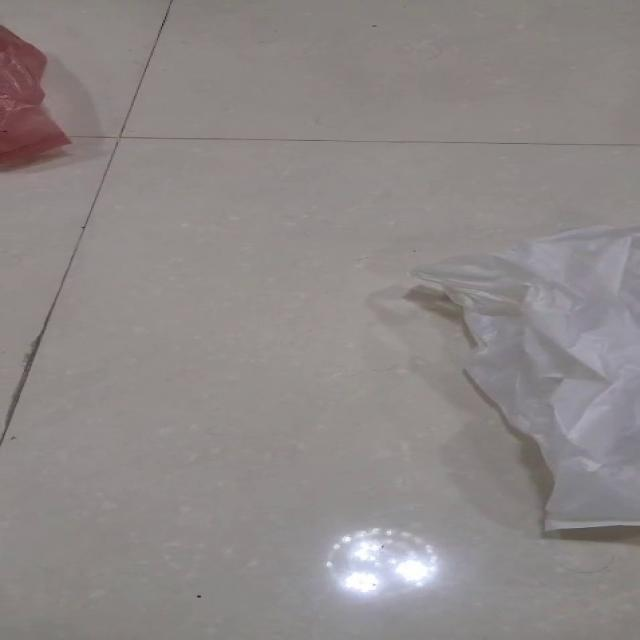plastic: (407, 223, 639, 531), (0, 23, 72, 166)
